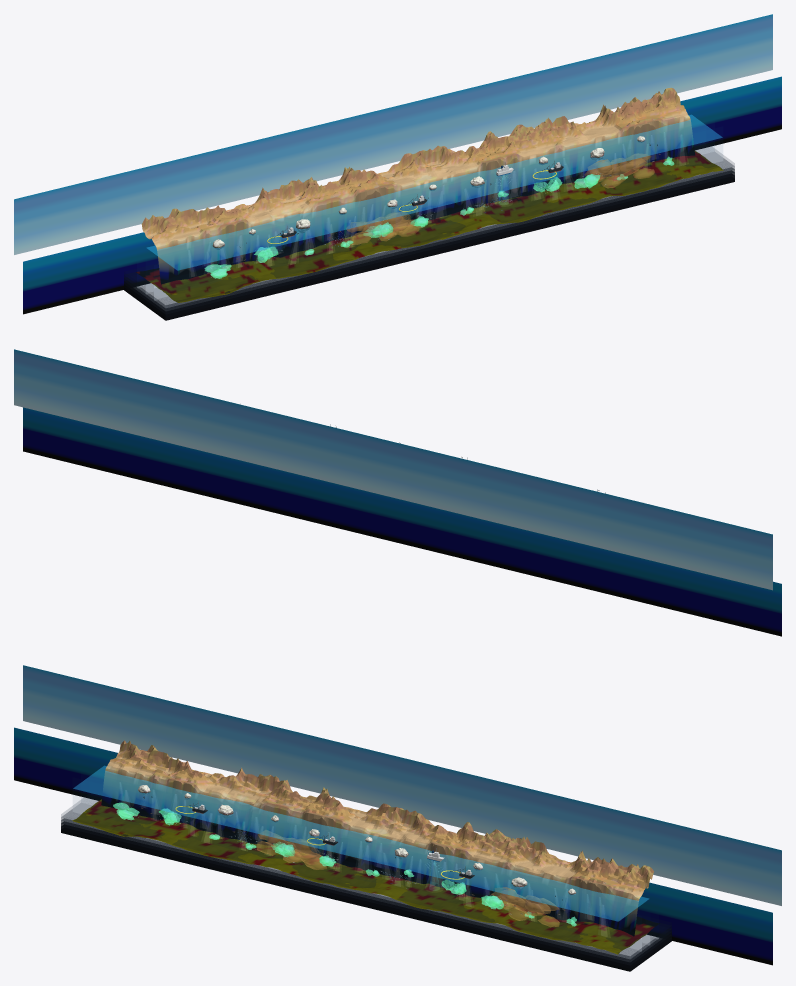
The model's file is cardumen_escenario_peru.glb.
The picture shows the model from 3 angles, top to bottom: view 1: azimuth 30°, elevation 25°; view 2: azimuth 150°, elevation 25°; view 3: azimuth 330°, elevation 25°; orthographic projection.
Visible parts, largest first — view 1: Cielo, Costa_Peruana, Superficie_Mar, Lecho_Marino, AguaFondo, ZMO_Capa_1, ZMO_Capa_0, ZMO_Capa_3, ZMO_Capa_4, ZMO_Capa_2, ZMO_Capa_5, Frente_ElNino_B (+1 smaller); view 2: Cielo, AguaFondo; view 3: Cielo, Costa_Peruana, Superficie_Mar, Lecho_Marino, AguaFondo, ZMO_Capa_1, ZMO_Capa_0, ZMO_Capa_3, ZMO_Capa_4, ZMO_Capa_2, ZMO_Capa_5, Frente_ElNino_B (+1 smaller).
Part boxes in pixels (<box>): Cielo: <box>14,14,772,254</box>; Costa_Peruana: <box>141,87,695,284</box>; Superficie_Mar: <box>147,115,722,270</box>; Lecho_Marino: <box>136,151,723,302</box>; AguaFondo: <box>23,76,781,314</box>; ZMO_Capa_1: <box>124,153,734,307</box>; ZMO_Capa_0: <box>124,144,734,304</box>; ZMO_Capa_3: <box>124,170,734,314</box>; ZMO_Capa_4: <box>124,174,734,317</box>; ZMO_Capa_2: <box>124,167,734,311</box>; ZMO_Capa_5: <box>124,179,734,320</box>; Frente_ElNino_B: <box>584,153,654,188</box>; Cielo: <box>14,349,772,590</box>; AguaFondo: <box>23,407,781,636</box>; Cielo: <box>23,665,781,905</box>; Costa_Peruana: <box>101,740,653,936</box>; Superficie_Mar: <box>73,766,648,921</box>; Lecho_Marino: <box>72,799,659,954</box>; AguaFondo: <box>14,727,772,965</box>; ZMO_Capa_1: <box>61,803,671,958</box>; ZMO_Capa_0: <box>61,795,671,955</box>; ZMO_Capa_3: <box>61,821,671,965</box>; ZMO_Capa_4: <box>61,825,671,968</box>; ZMO_Capa_2: <box>61,818,671,962</box>; ZMO_Capa_5: <box>61,829,671,971</box>; Frente_ElNino_B: <box>491,887,559,927</box>.
Bounding box in the file's own units: 1280 × 175 × 168.
